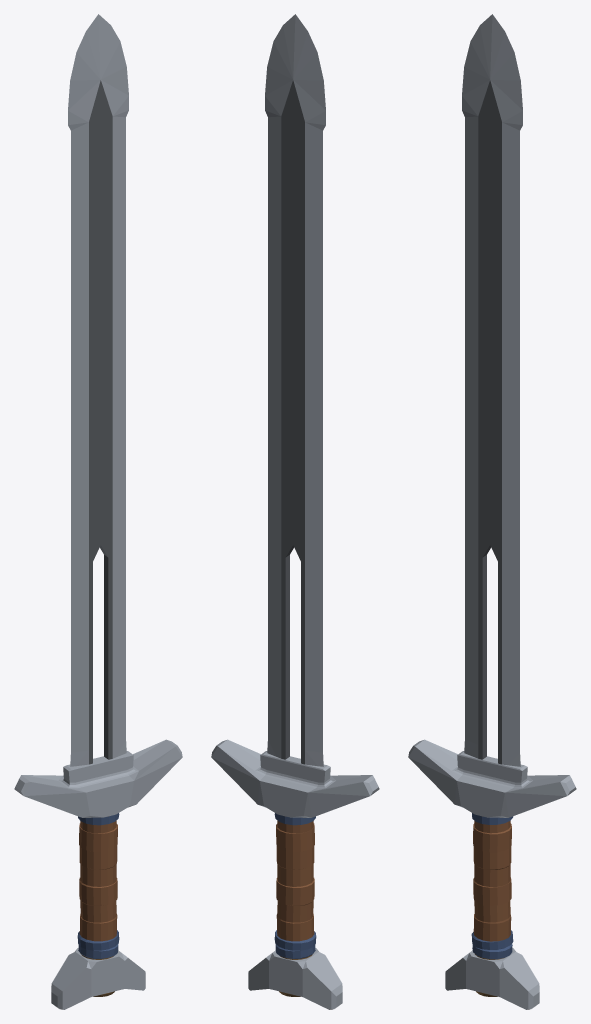
File: Kladenets.fbx
3 views of the same model, side by side, from view 1: azimuth 30°, elevation 25°; view 2: azimuth 150°, elevation 25°; view 3: azimuth 330°, elevation 25° (orthographic).
Visible parts, largest first — view 1: Sword 1; view 2: Sword 1; view 3: Sword 1.
Boxes of the visible parts, box(x1,y1,x2,y2) form: Sword 1: box(14, 14, 182, 1009); Sword 1: box(211, 14, 379, 1009); Sword 1: box(408, 14, 576, 1009).
Size of the model in its own units: 0.2017 by 1.18 by 0.0505.
